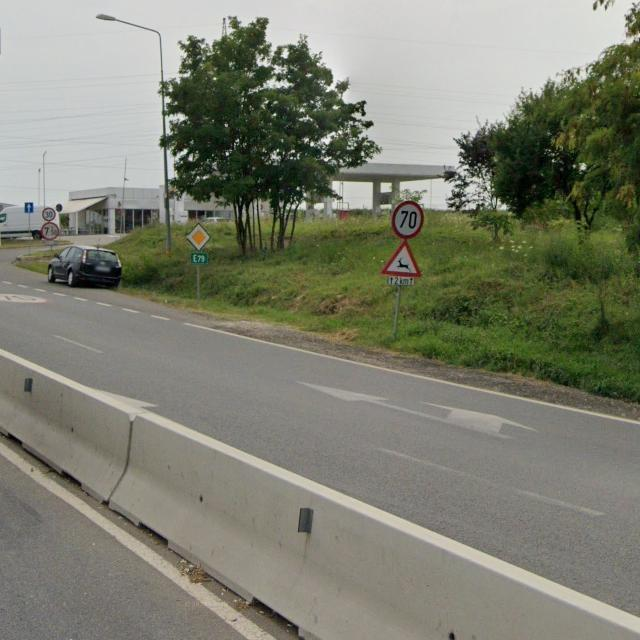forb_speed_over_30: (42, 207, 56, 221)
forb_speed_over_70: (391, 201, 424, 240)
